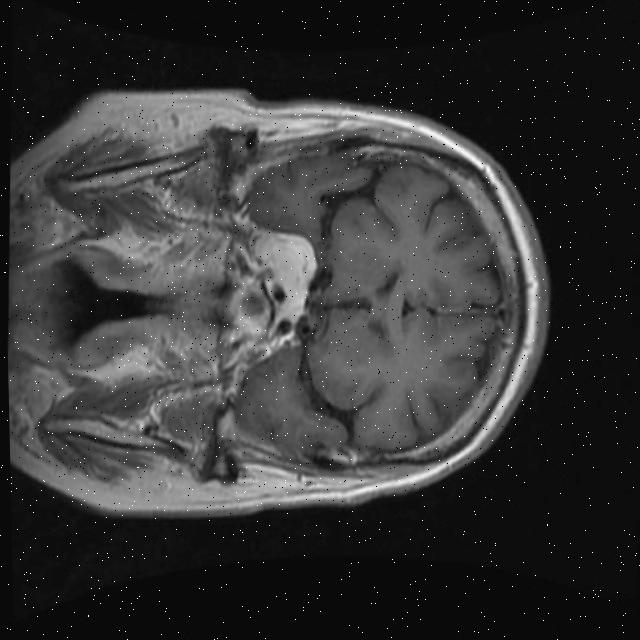Meningioma: (243, 223, 318, 298)
Pituitary: (224, 279, 272, 336)
